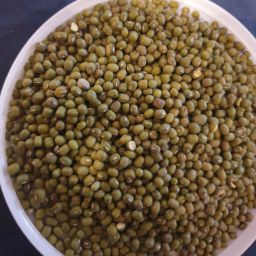Green gram dal(moong): (87, 9, 218, 256), (37, 42, 156, 256), (6, 65, 88, 256), (41, 2, 256, 71), (38, 32, 256, 80), (217, 19, 256, 256)
